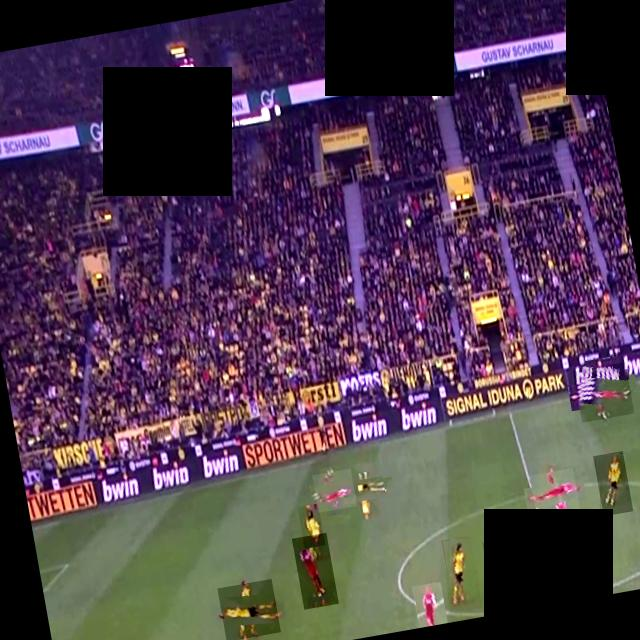referee: (482, 536, 525, 610)
soccer-player: (216, 578, 280, 640), (573, 362, 634, 422), (292, 532, 338, 609), (438, 534, 482, 612), (593, 450, 633, 516), (529, 468, 580, 518), (312, 468, 357, 512), (344, 469, 388, 513), (412, 582, 448, 628), (297, 503, 325, 548)
